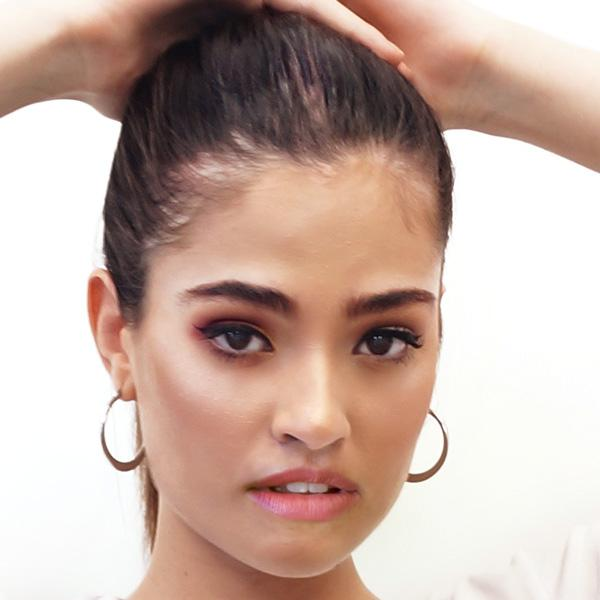Eyes: (186, 305, 281, 369), (341, 318, 429, 369)
